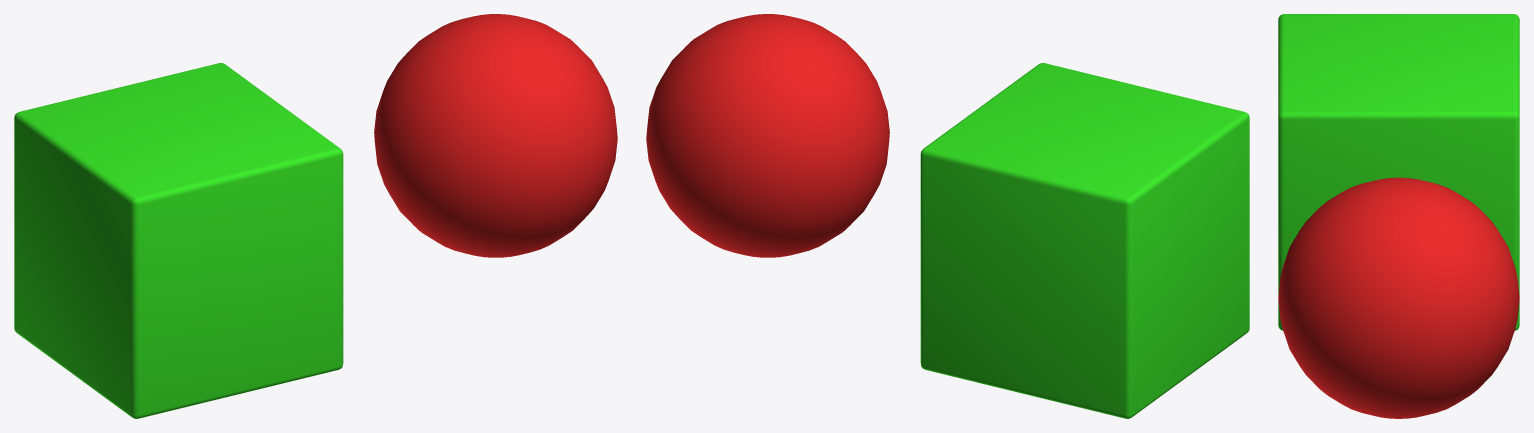
3 renders of one model, left to right at view 1: azimuth 30°, elevation 25°; view 2: azimuth 150°, elevation 25°; view 3: azimuth 270°, elevation 25°, orthographic.
Visible parts, largest first — view 1: Cube, Sphere; view 2: Cube, Sphere; view 3: Cube, Sphere.
Part boxes in pixels (<box>): Cube: <box>14,63,343,418</box>; Sphere: <box>374,14,617,257</box>; Cube: <box>920,63,1249,418</box>; Sphere: <box>646,14,889,257</box>; Cube: <box>1278,14,1519,330</box>; Sphere: <box>1278,177,1519,418</box>.
Size of what is drawn, in the model's own units: 5 by 2.25 by 2.
